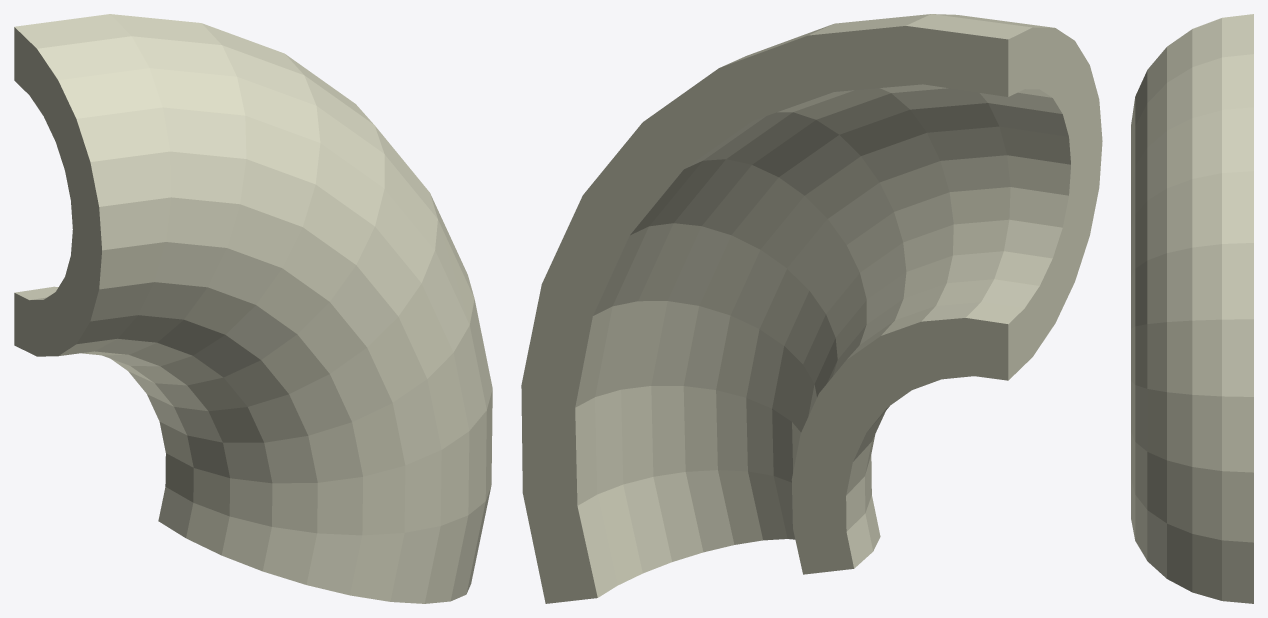
Rendered from section_139.obj.
The picture shows the model from 3 angles, left to right: view 1: azimuth 30°, elevation 25°; view 2: azimuth 150°, elevation 25°; view 3: azimuth 270°, elevation 25°; orthographic projection. The views are drawn at different scales.
Bounding box in the file's own units: 8.96 × 11.91 × 3.
